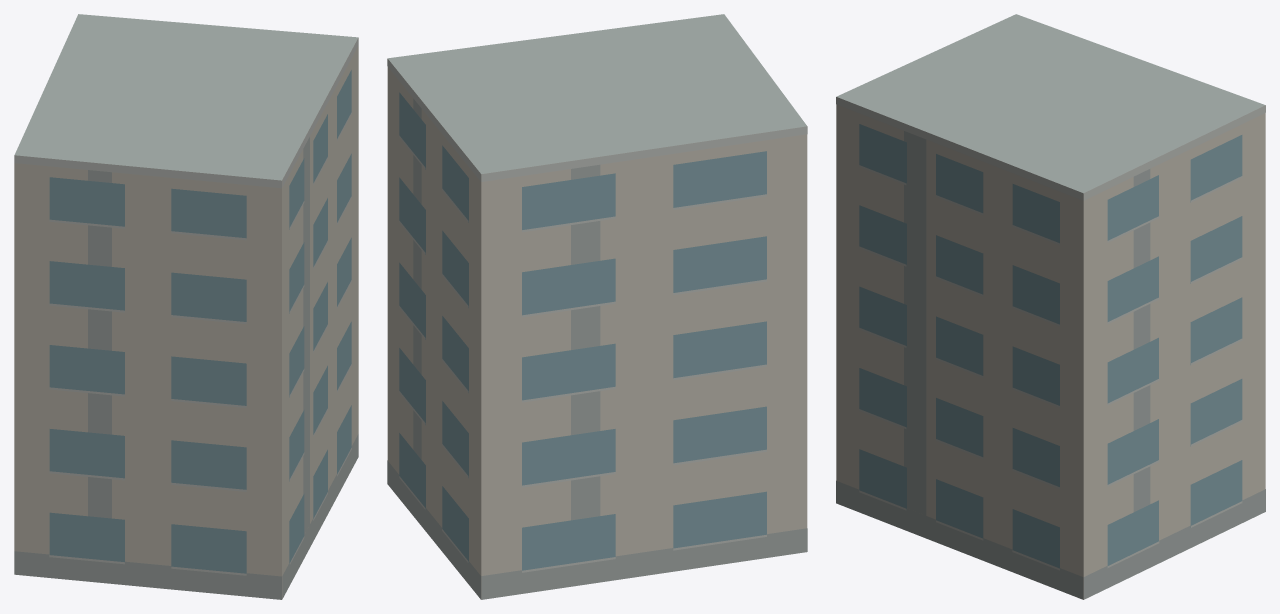
File: survey-upis-32886973.glb
3 renders of one model, left to right at view 1: azimuth 30°, elevation 25°; view 2: azimuth 150°, elevation 25°; view 3: azimuth 270°, elevation 25°, orthographic. The views are drawn at different scales.
Visible parts, largest first — view 1: survey-upis-32886973.tmp; view 2: survey-upis-32886973.tmp; view 3: survey-upis-32886973.tmp.
Part boxes in pixels (x1,y1,x2,y2): survey-upis-32886973.tmp: (14,14,358,599); survey-upis-32886973.tmp: (387,14,807,599); survey-upis-32886973.tmp: (836,14,1265,599).
Size of the model in its own units: 12.4 by 13.1 by 12.55.
